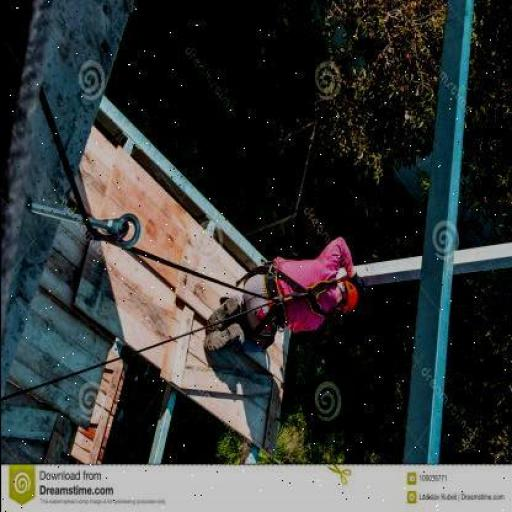person: (178, 230, 370, 374)
safety_shoe: (203, 320, 239, 358), (199, 300, 244, 326)
